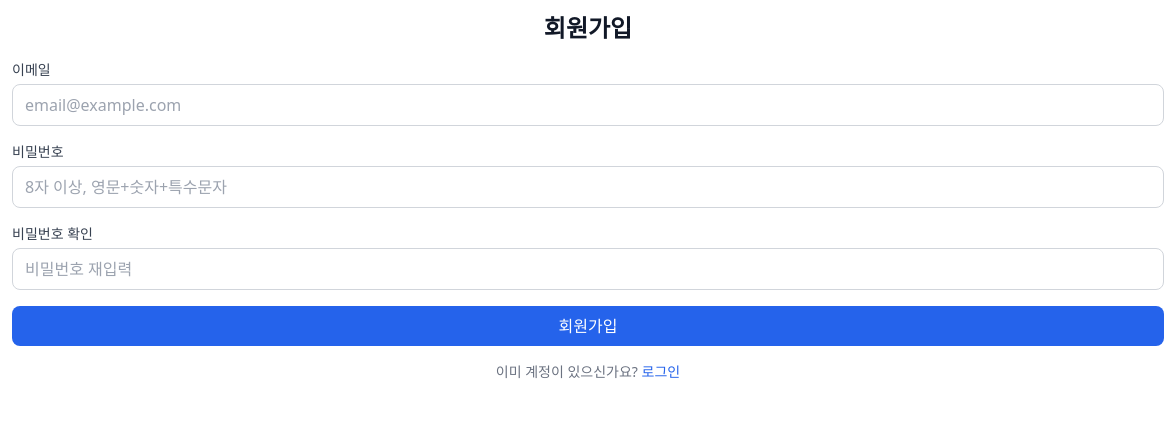
Test: SignupPage › shows error when passwords do not match
Type "test@test.com" into the field with test id "signup-email-input".
click(588, 105); type("test@test.com")  # box [12,84,1164,126]
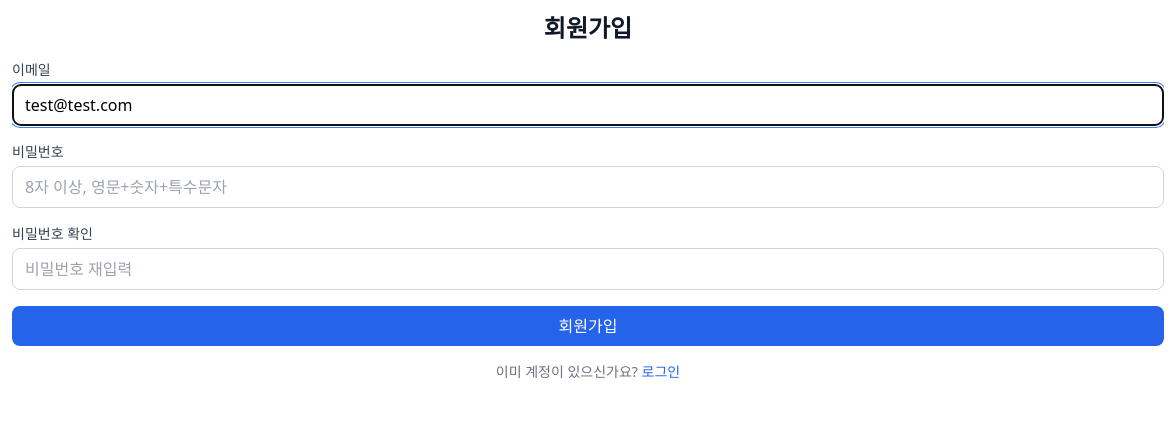
Type "password123!" into the password field with test id "signup-password-input".
click(588, 187); type("password123!")  # box [12,166,1164,208]
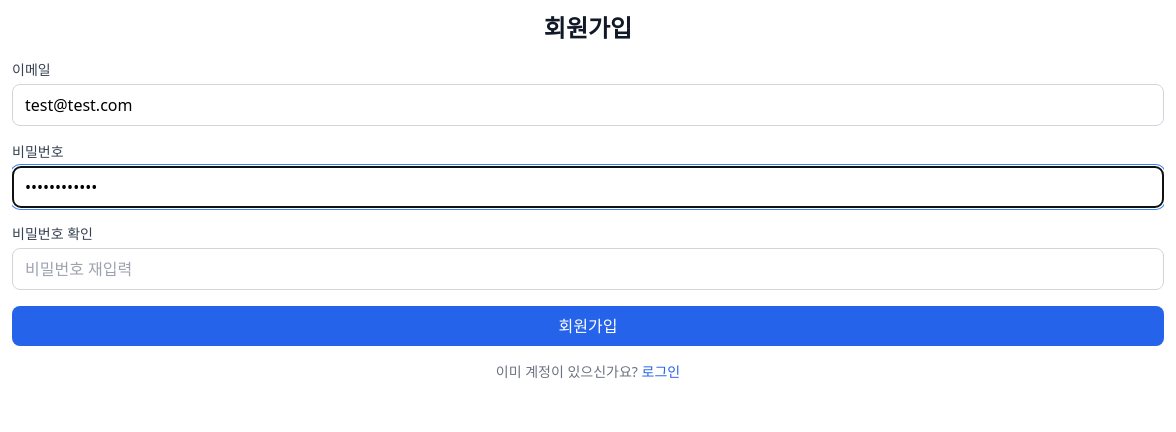
Type "different123!" into the password field with test id "signup-confirm-password-input".
click(588, 269); type("different123!")  # box [12,248,1164,290]
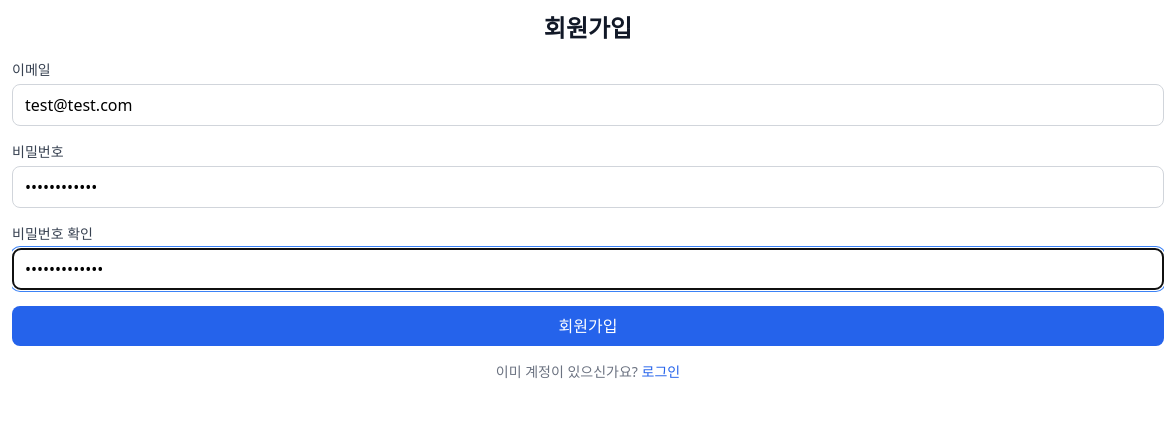
Click the button with test id "signup-submit-button".
click(588, 326)  # box [12,306,1164,346]
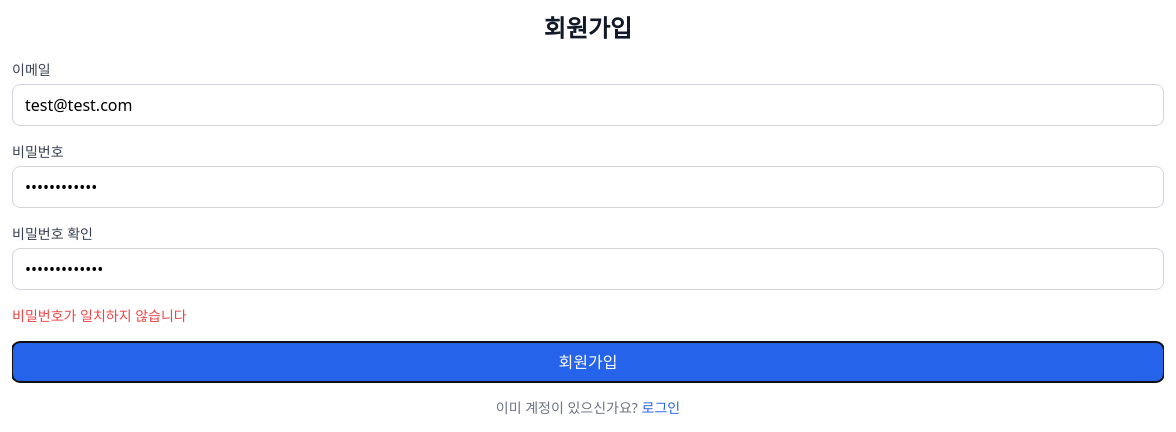
Expected: the text "비밀번호가 일치하지 않습니다" is shown, [12,306,187,325]
